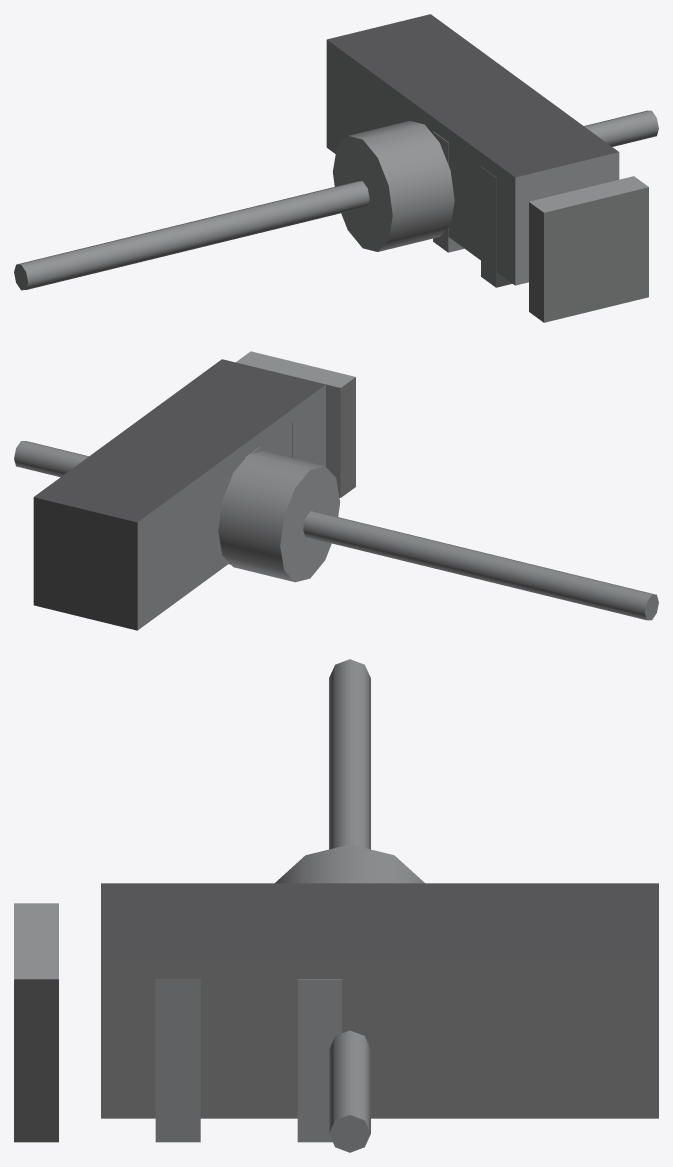
The picture shows the model from 3 angles, top to bottom: view 1: azimuth 30°, elevation 25°; view 2: azimuth 150°, elevation 25°; view 3: azimuth 270°, elevation 25°; orthographic projection. The views are drawn at different scales.
Size of the model in its own units: 1.08 by 0.2025 by 0.646.
